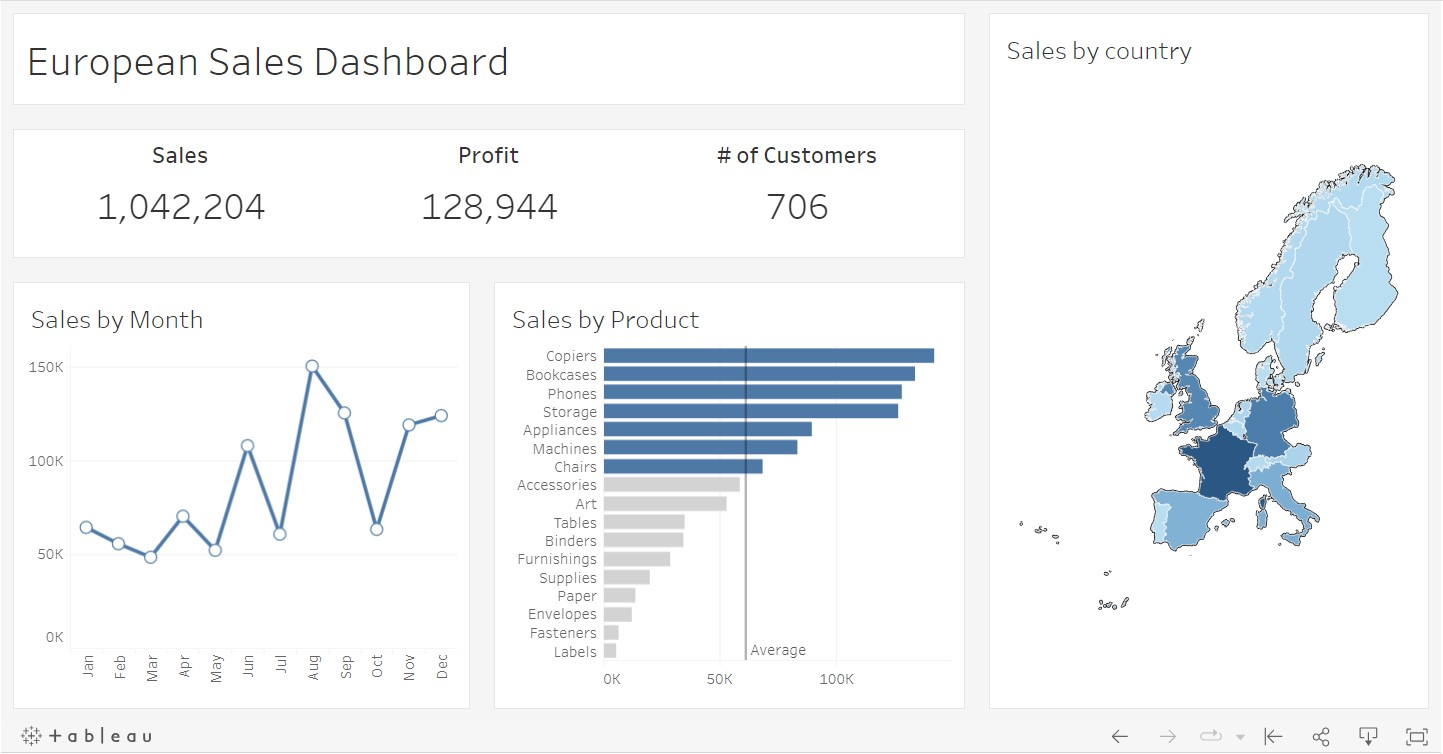

The dashboard page shown, as its layout file describes it:
{"tool":"tableau","page":{"name":"Dashboard 1","canvas":[1200,600],"ordinal":0},"visuals":[{"type":"text","box":[0,0,813,97]},{"type":"worksheet","title":"Sales by country","mark":"Automatic","box":[813,0,387,600]},{"type":"worksheet","title":"KPIs","mark":"Automatic","box":[0,97,813,127]},{"type":"worksheet","title":"Sales by Month","mark":"Line","rows":["Sales","Sales"],"cols":["Order Date"],"box":[0,224,400.9,375.9]},{"type":"worksheet","title":"Sales by Product","mark":"Automatic","rows":["Sub-Category"],"cols":["Sales"],"box":[400.9,224,412,375.9]}]}

Visuals, with their boxes on the page's 1200x600 design canvas (x1, y1, x2, y2). These are canvas units, not pixel positions in the 1443x754 screenshot, which may show the page scaled, cropped or inside an application window:
text: 0, 0, 813, 97
"Sales by country" worksheet: 813, 0, 1200, 600
"KPIs" worksheet: 0, 97, 813, 224
"Sales by Month" worksheet (Line marks): 0, 224, 401, 600
"Sales by Product" worksheet: 401, 224, 813, 600
